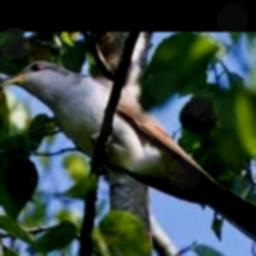Cuckoo: (4, 59, 256, 252)
